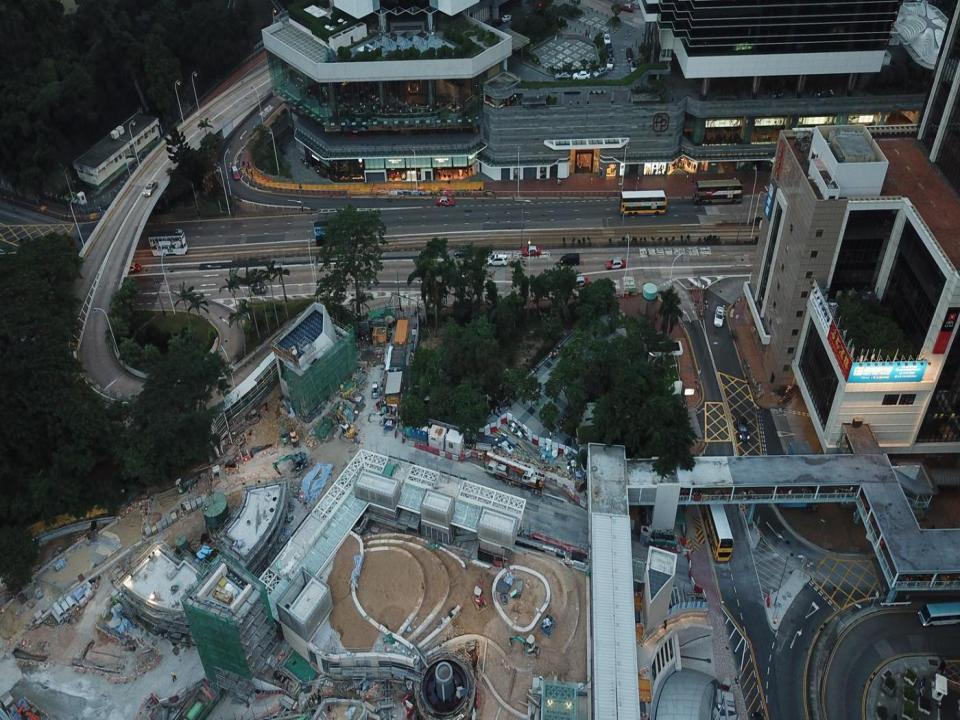bus: (702, 469, 734, 560), (692, 178, 743, 204), (917, 600, 960, 628), (147, 228, 188, 257), (618, 191, 668, 213), (312, 220, 359, 243)
car: (449, 268, 482, 288), (737, 408, 748, 440), (522, 242, 542, 258), (554, 66, 573, 82), (452, 245, 474, 258), (435, 194, 456, 207), (143, 179, 157, 197), (122, 260, 140, 274), (714, 303, 724, 327), (573, 66, 589, 81), (590, 65, 608, 78), (570, 273, 589, 285), (606, 258, 627, 267), (228, 166, 241, 179), (619, 2, 632, 14), (370, 381, 378, 399), (608, 53, 615, 73), (603, 32, 612, 47), (606, 41, 614, 56), (630, 60, 636, 74), (500, 15, 511, 22)
van: (484, 252, 508, 268), (558, 251, 580, 264), (490, 14, 502, 26), (625, 43, 633, 58)
